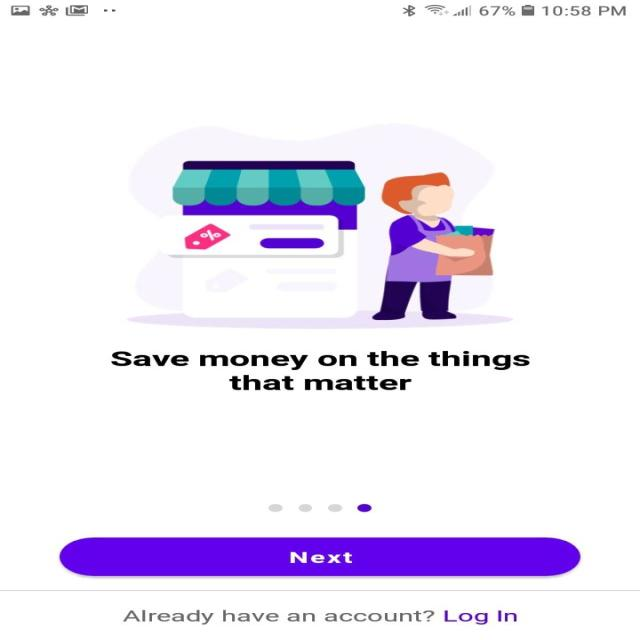Image: (125, 123, 514, 329)
Text: (110, 350, 530, 390), (121, 610, 516, 624)
TextButton: (58, 536, 580, 576)
